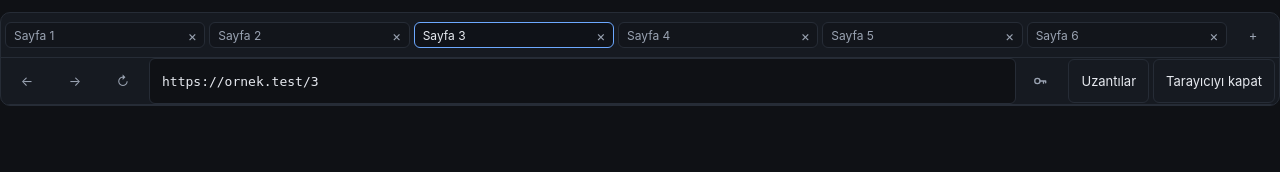
Test: BrowserTabsPanel: tab strip › closing tab after tab: each click removes one tab, and the blank one appears only after the last
The width and height of the screenshot is (1280, 172).
Click the 1st button "×".
click(192, 35)  # box 180,23 -> 204,47
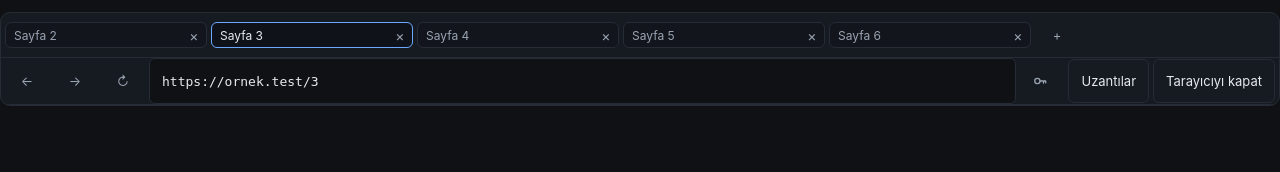
Click the 1st button "×".
click(194, 35)  # box 182,23 -> 206,47
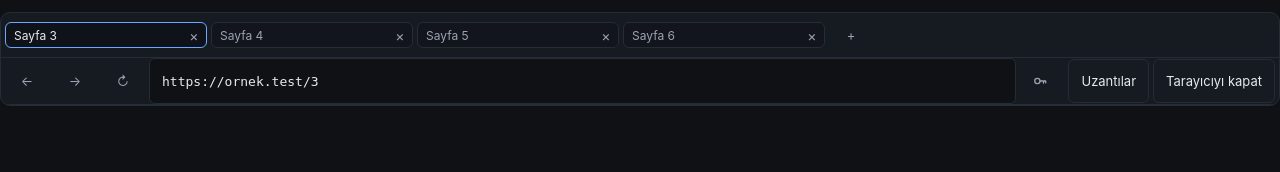
Click the 1st button "×".
click(194, 35)  # box 182,23 -> 206,47
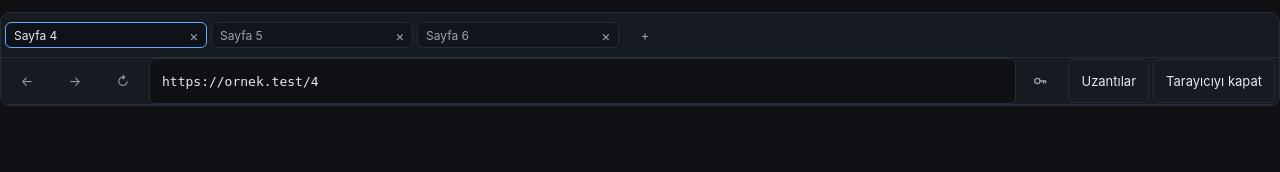
Click the 1st button "×".
click(194, 35)  # box 182,23 -> 206,47
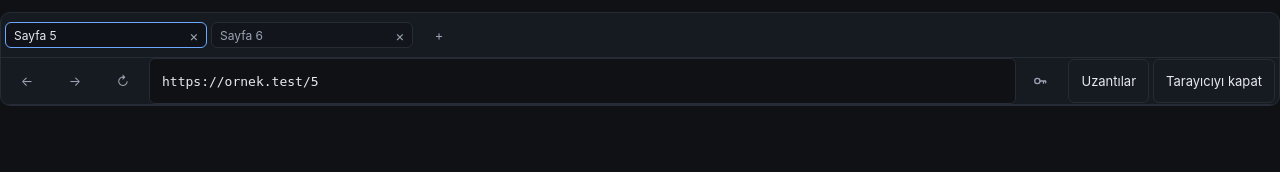
Click the 1st button "×".
click(194, 35)  # box 182,23 -> 206,47
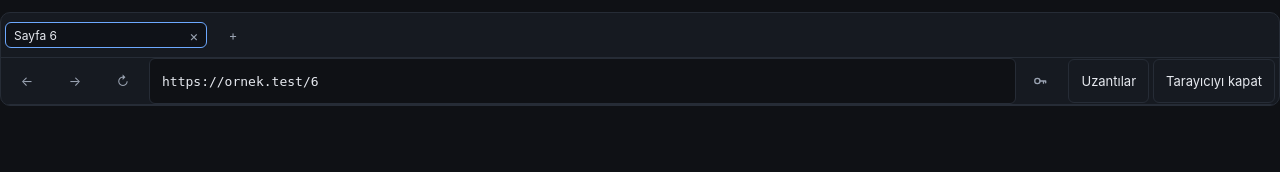
Click the button "×".
click(194, 35)  # box 182,23 -> 206,47
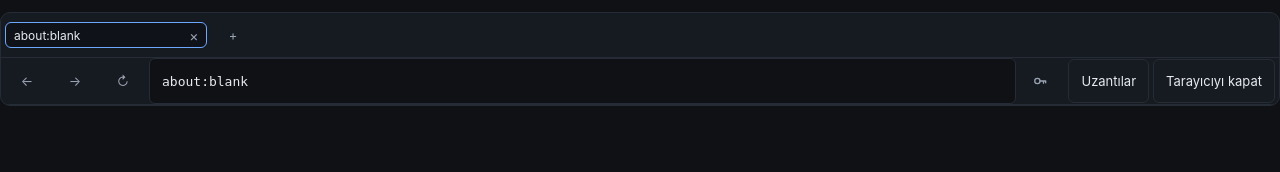
Check: the buttons read "about:blank", in this order, box 6,23 -> 182,47
